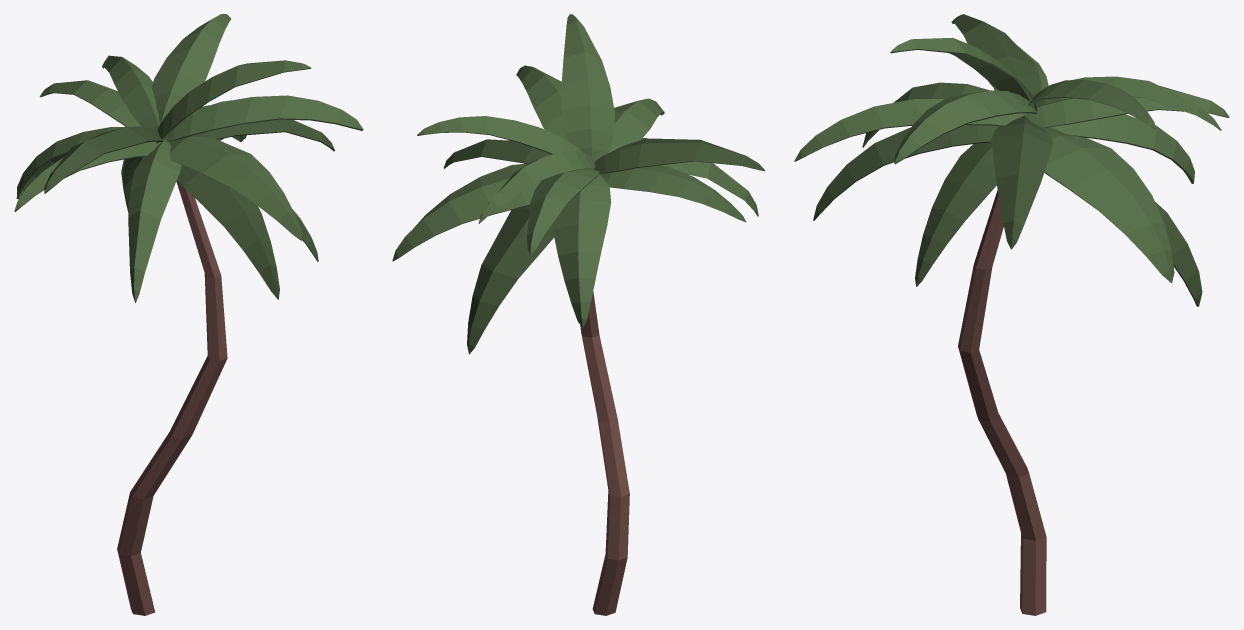
Rendered from palmtree_1.012_lev1.glb.
The picture shows the model from 3 angles, left to right: view 1: azimuth 30°, elevation 25°; view 2: azimuth 150°, elevation 25°; view 3: azimuth 270°, elevation 25°; orthographic projection. The views are drawn at different scales.
Parts seen in each view (by area): view 1: palmtree_1.012_lev1; view 2: palmtree_1.012_lev1; view 3: palmtree_1.012_lev1.
Boxes of the visible parts, x1=… form: palmtree_1.012_lev1: x1=14, y1=14, x2=363, y2=615; palmtree_1.012_lev1: x1=392, y1=14, x2=765, y2=615; palmtree_1.012_lev1: x1=794, y1=14, x2=1229, y2=615.
Bounding box in the file's own units: 2.65 × 4.47 × 2.87.
